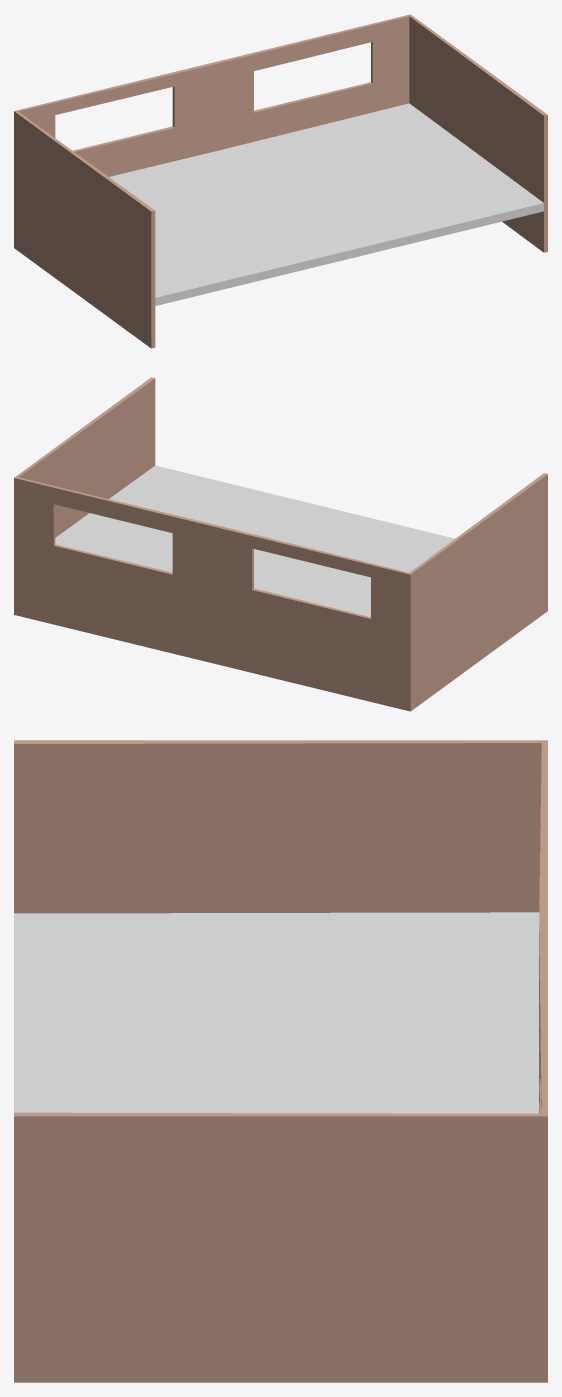
The model's file is A class room.fbx.
3 views of the same model, one above another, from view 1: azimuth 30°, elevation 25°; view 2: azimuth 150°, elevation 25°; view 3: azimuth 270°, elevation 25° (orthographic). The views are drawn at different scales.
Parts seen in each view (by area): view 1: PlatForm; view 2: PlatForm; view 3: PlatForm.
Boxes of the visible parts, bbox=[...] form: PlatForm: bbox=[14, 14, 547, 348]; PlatForm: bbox=[14, 377, 547, 711]; PlatForm: bbox=[14, 740, 547, 1382].
Size of the model in its own units: 1000 by 330 by 600.
